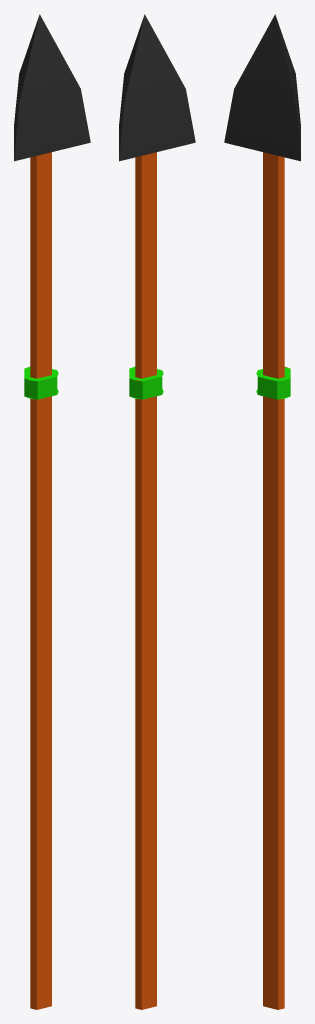
The model's file is spear.fbx.
The picture shows the model from 3 angles, left to right: view 1: azimuth 30°, elevation 25°; view 2: azimuth 150°, elevation 25°; view 3: azimuth 330°, elevation 25°; orthographic projection.
Visible parts, largest first — view 1: Cylinder; view 2: Cylinder; view 3: Cylinder.
Part boxes in pixels (x1,y1,x2,y2): Cylinder: [14, 14, 90, 1009]; Cylinder: [119, 14, 195, 1009]; Cylinder: [224, 14, 300, 1009].
Bounding box in the file's own units: 119 × 1473 × 103.
